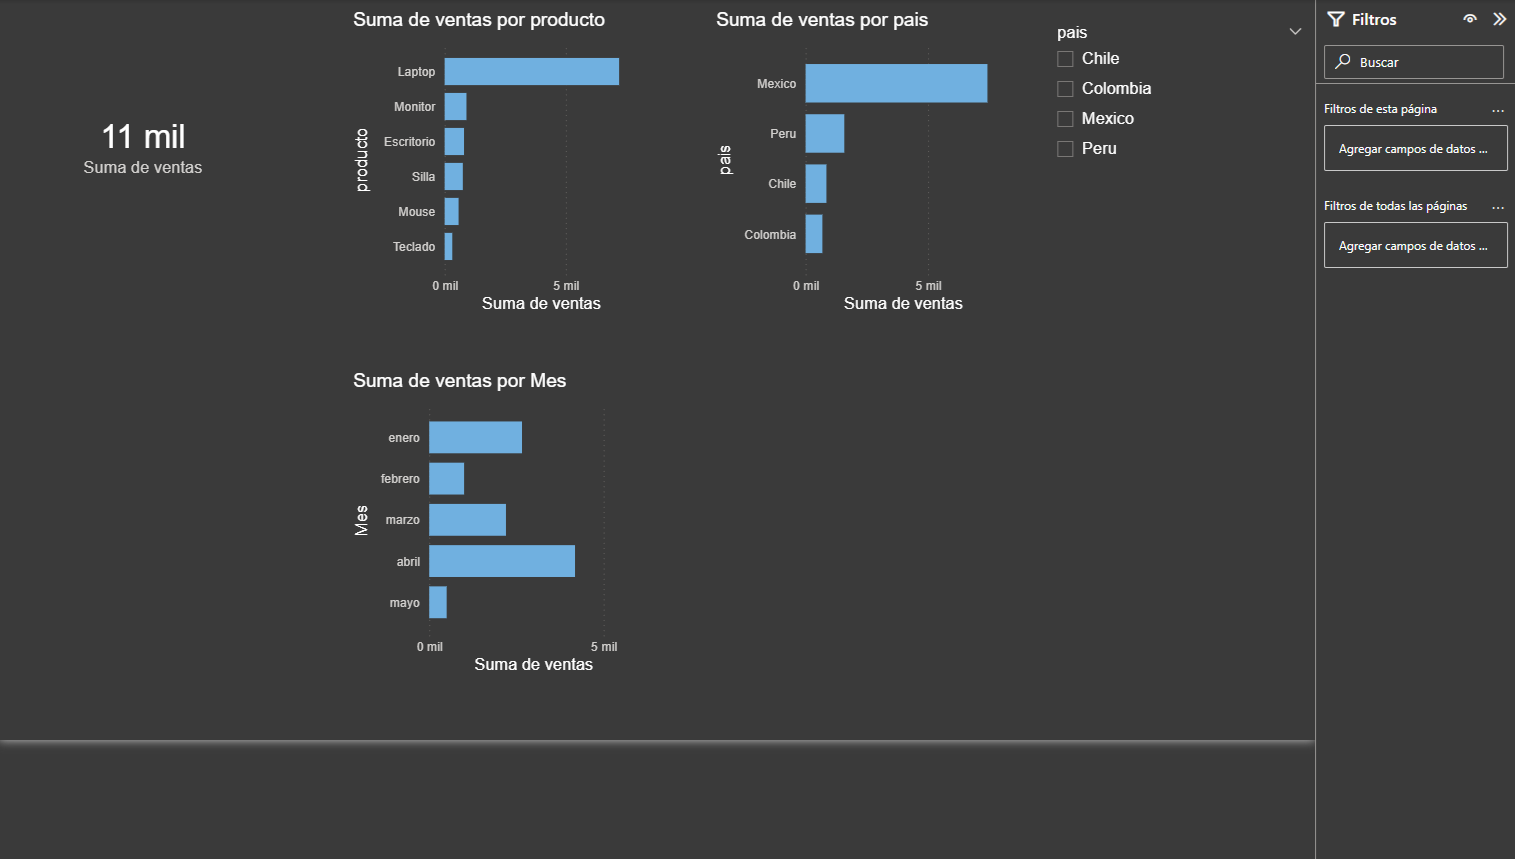

Layout of this report page (visuals, bound fields, positions):
{"tool":"powerbi","page":{"name":"Página 1","canvas":[1280,720],"ordinal":0},"visuals":[{"type":"card","fields":{"Values":["Sum(ventas.ventas)"]},"box":[0,0,280.1,280.1],"z":0},{"type":"clusteredBarChart","fields":{"Category":["ventas.producto"],"Y":["Sum(ventas.ventas)"]},"box":[339.5,8.8,300.5,299.6],"z":1000},{"type":"clusteredBarChart","fields":{"Category":["ventas.pais"],"Y":["Sum(ventas.ventas)"]},"box":[692.5,8.8,300.5,299.6],"z":2000},{"type":"clusteredBarChart","fields":{"Category":["ventas.fecha.Variación.Jerarquía de fechas.Mes"],"Y":["Sum(ventas.ventas)"]},"box":[339.5,359.9,300.5,299.6],"z":3000},{"type":"slicer","fields":{"Values":["ventas.pais"]},"box":[1016.4,17.5,263.6,299.6],"z":4000}]}

Visuals, with their boxes on the page's 1280x720 design canvas (x1, y1, x2, y2). These are canvas units, not pixel positions in the 1515x859 screenshot, which may show the page scaled, cropped or inside an application window:
card - Sum(ventas.ventas): (0,0,280,280)
clusteredBarChart - ventas.producto x Sum(ventas.ventas): (340,9,640,308)
clusteredBarChart - ventas.pais x Sum(ventas.ventas): (692,9,993,308)
clusteredBarChart - ventas.fecha.Variación.Jerarquía de fechas.Mes x Sum(ventas.ventas): (340,360,640,660)
slicer - ventas.pais: (1016,18,1280,317)
